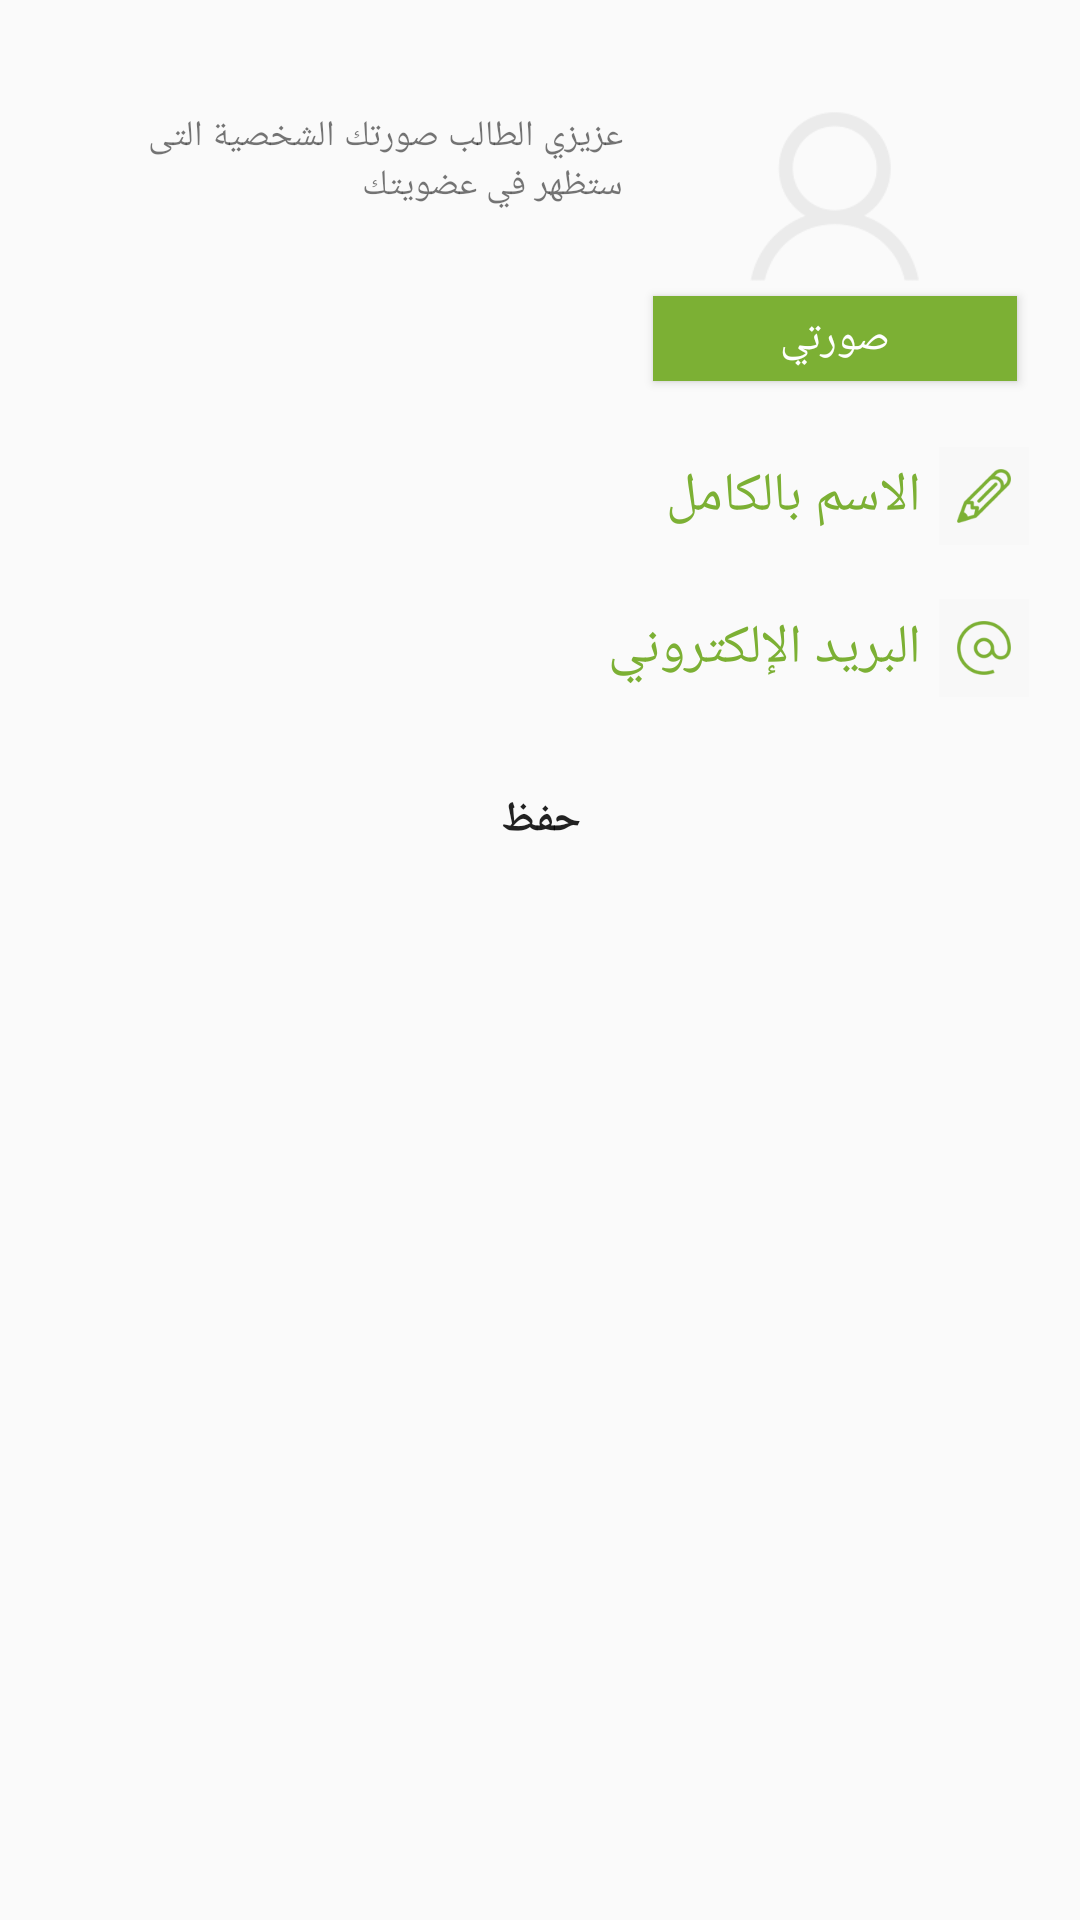

Locate icon controls on the screen. Image size 1080px x 1920px, boxes as box(x1, y1, x2, y2).
mail: box(957, 621, 1011, 675)
